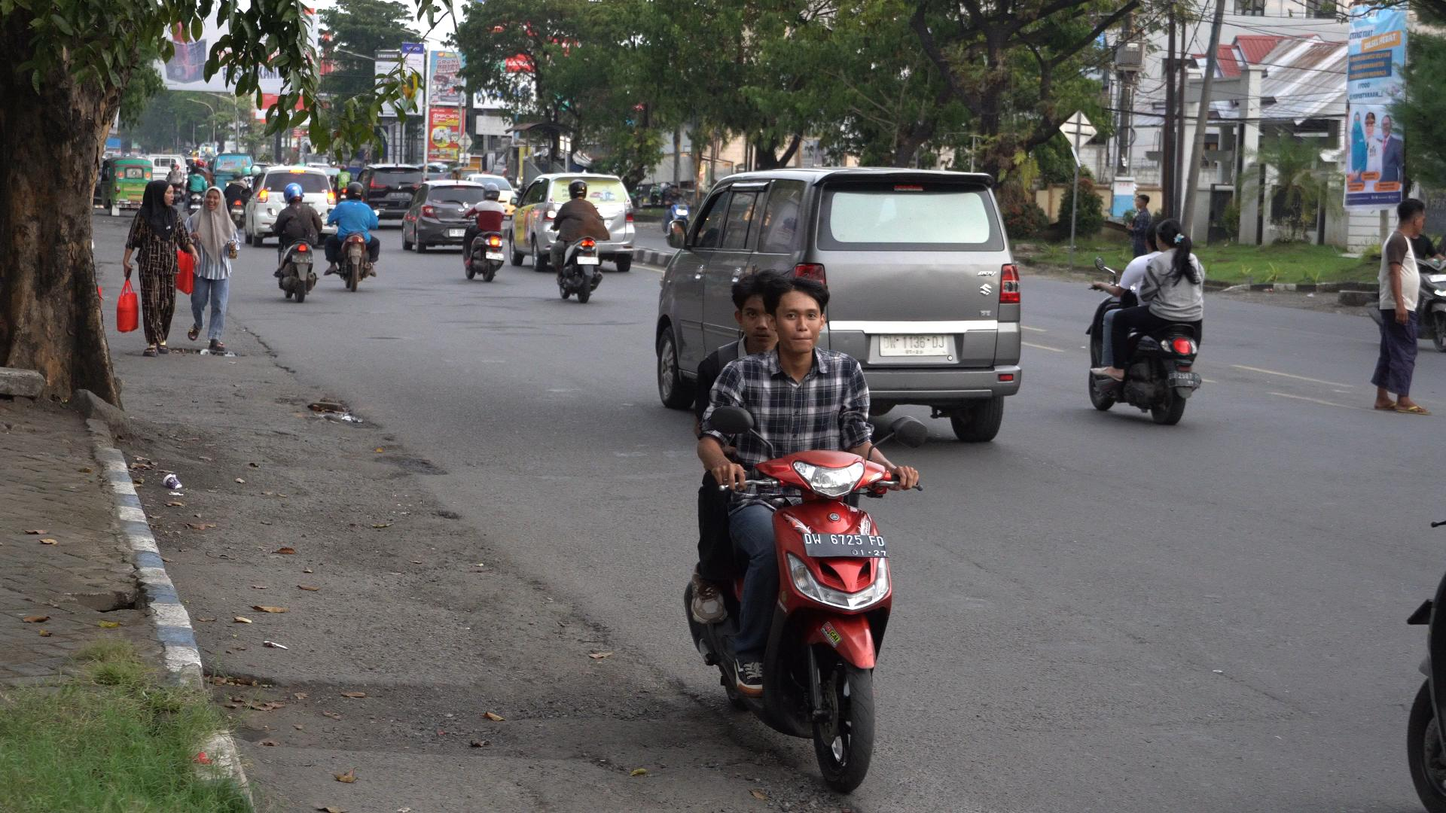number-plate: (806, 532, 888, 557)
